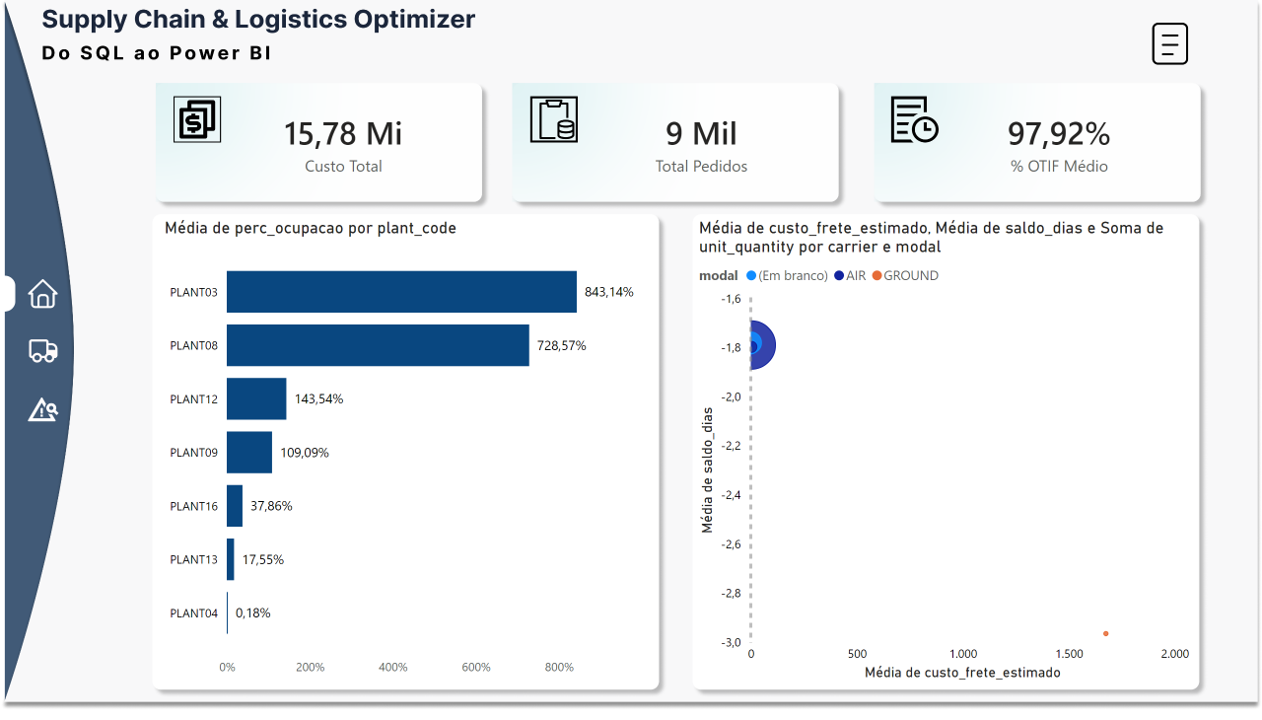

Layout of this report page (visuals, bound fields, positions):
{"tool":"powerbi","page":{"name":"Visão Geral","canvas":[1280,720],"ordinal":0},"visuals":[{"type":"cardVisual","fields":{"Data":["Calculate.Custo Total","Calculate.Total Pedidos","Calculate.% OTIF Médio"]},"box":[154.5,76.5,1115.4,136.1],"z":0},{"type":"barChart","fields":{"Category":["public vw_analise_capacidade.plant_code"],"Y":["Avg(public vw_analise_capacidade.perc_ocupacao)"]},"box":[161.6,221.1,501.7,473.4],"z":1000},{"type":"scatterChart","fields":{"X":["Avg(public vw_custos_totais.custo_frete_estimado)"],"Y":["Avg(public vw_performance_sla.saldo_dias)"],"Series":["public vw_custos_totais.modal"],"Category":["public vw_custos_totais.carrier"],"Size":["Sum(public vw_custos_totais.unit_quantity)"]},"box":[704.4,221.1,507.4,473.4],"z":2000},{"type":"actionButton","box":[1164.6,19.5,43.5,52.5],"z":4000},{"type":"actionButton","box":[1049.2,86.9,63,57],"z":5000},{"type":"actionButton","box":[1145.1,86.9,63,57],"z":6000},{"type":"pageNavigator","box":[18.1,267.6,50.6,182.6],"z":7000}]}

Visuals, with their boxes in screenshot pixels (x1, y1, x2, y2), scaled from the page's 1280x720 canvas onto the 1262x720 screenshot:
cardVisual - Calculate.Custo Total x Calculate.Total Pedidos: 152/76/1252/213
barChart - public vw_analise_capacidade.plant_code x Avg(public vw_analise_capacidade.perc_ocupacao): 159/221/654/694
scatterChart - Avg(public vw_custos_totais.custo_frete_estimado) x Avg(public vw_performance_sla.saldo_dias): 694/221/1195/694
actionButton: 1148/20/1191/72
actionButton: 1034/87/1097/144
actionButton: 1129/87/1191/144
pageNavigator: 18/268/68/450
